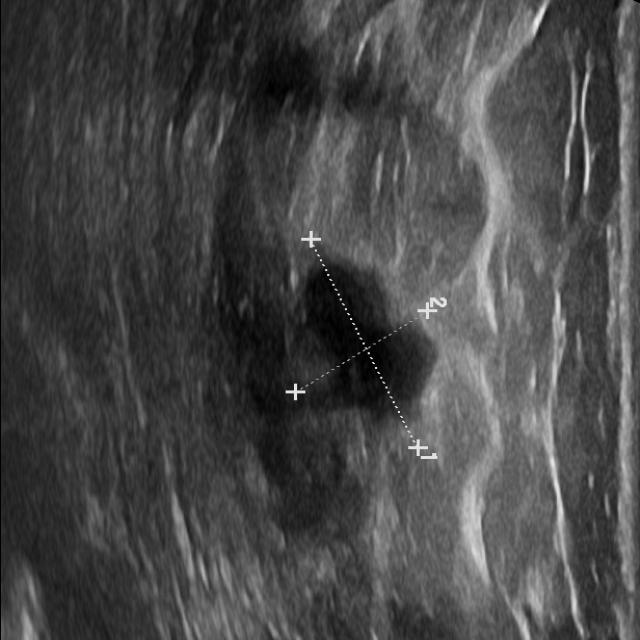Malignant: (285, 256, 447, 426)
